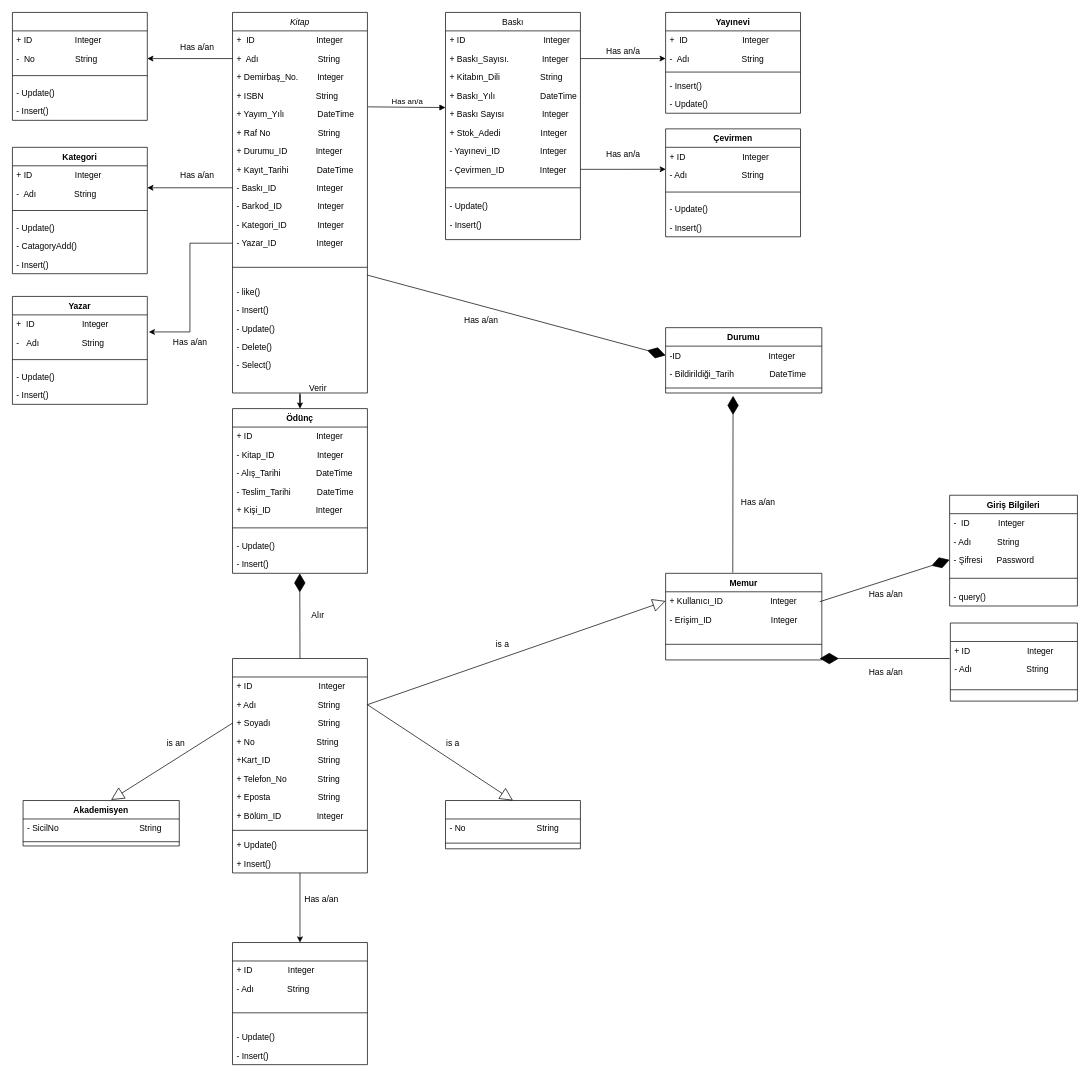
Some shapes in this 1090 by 1079 pixel diagram are drawn without their labels. Each missing label, with the box of its shape:
Barkod: (12, 12, 147, 120)
Bölüm: (232, 942, 367, 1065)
Erişimi: (950, 622, 1077, 701)
KİŞİ: (232, 658, 367, 873)
Öğrenci: (445, 800, 580, 849)
